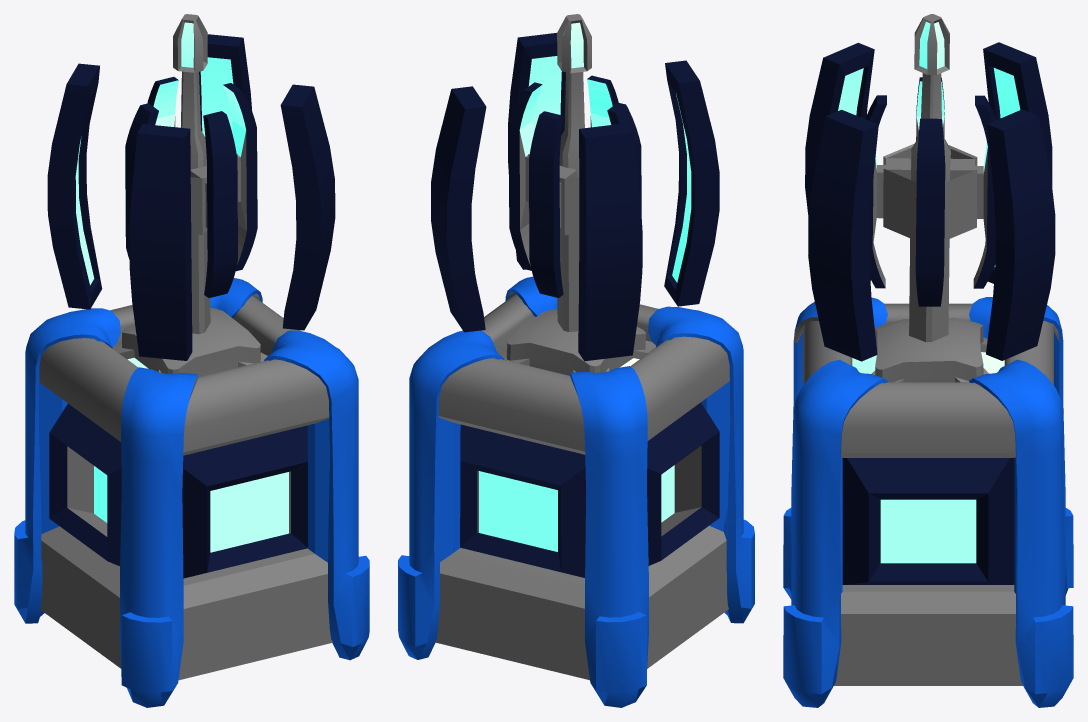
Rendered from hacker kule seviye 1.fbx.
3 views of the same model, side by side, from view 1: azimuth 30°, elevation 25°; view 2: azimuth 150°, elevation 25°; view 3: azimuth 270°, elevation 25° (orthographic). The views are drawn at different scales.
Visible parts, largest first — view 1: Cube.011, Cube.029; view 2: Cube.011, Cube.029; view 3: Cube.011, Cube.029.
Boxes of the visible parts, <box> form: Cube.011: <box>14,14,369,707</box>; Cube.029: <box>47,34,335,360</box>; Cube.011: <box>398,14,754,707</box>; Cube.029: <box>431,33,719,361</box>; Cube.011: <box>783,14,1073,707</box>; Cube.029: <box>805,42,1055,361</box>.
Size of the model in its own units: 231 by 559 by 231.
